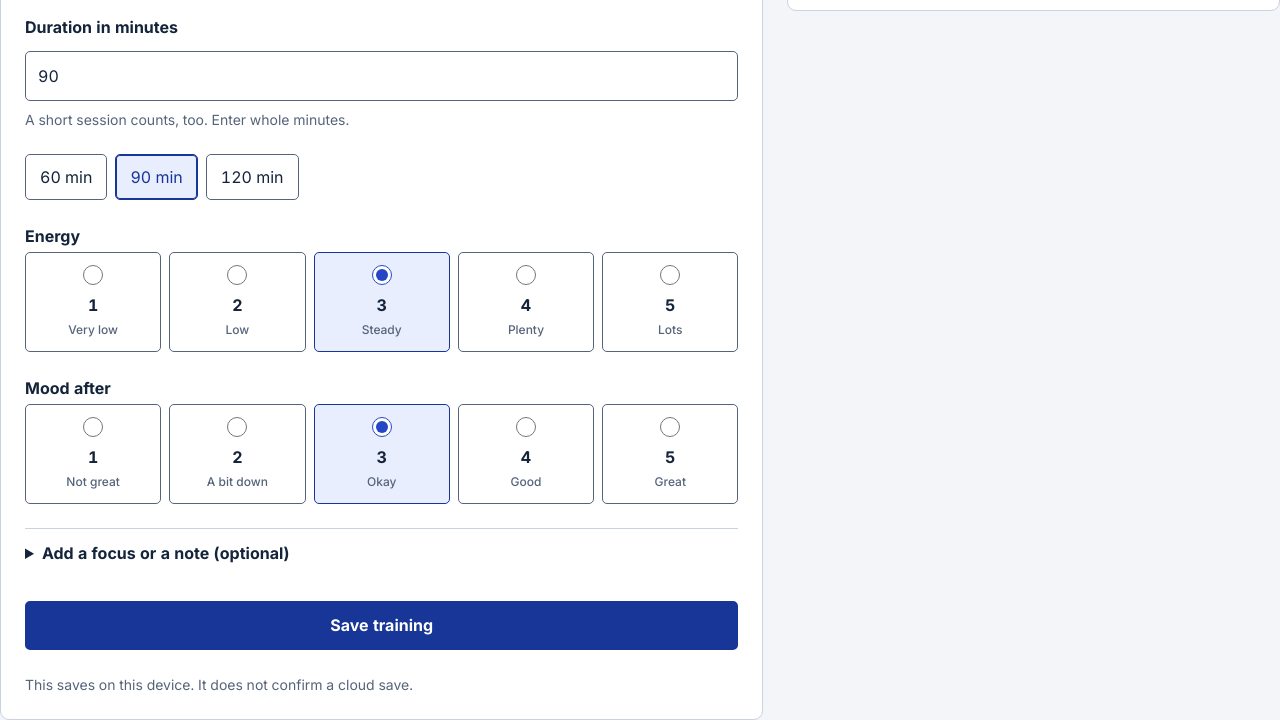
Scenario: real training journey › shows translated fields and completion in en
(page scrolled)
Check: the number field labelled "Duration in minutes" is shown, box [25, 51, 738, 101]
Step 1. Click the button "Save training" → coordinates (382, 625), box [25, 601, 738, 650]
(page scrolled)
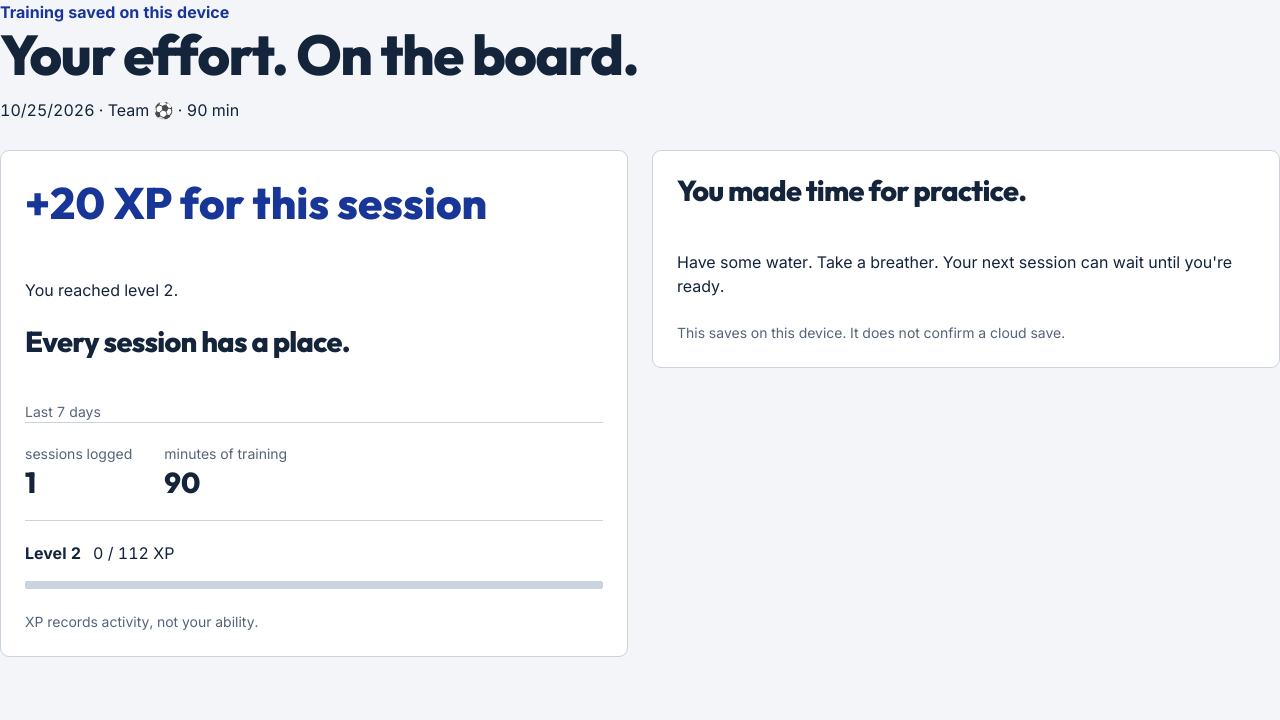
Check: the text "Training saved on this device" is shown, box [0, 2, 229, 22]
Check: the heading "Your effort. On the board." is shown, box [0, 19, 638, 90]
